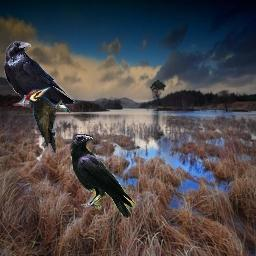Crow: (70, 134, 136, 219), (4, 41, 75, 113)
Woodpecker: (23, 87, 62, 153)
